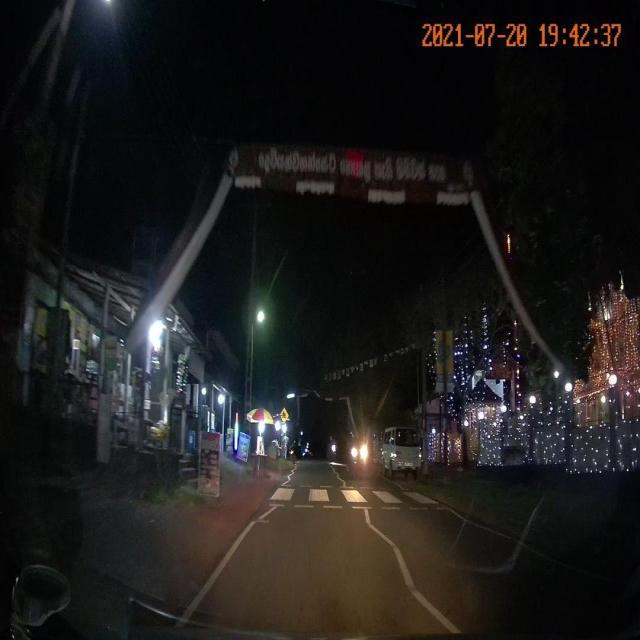Crosswalk: (264, 481, 455, 513)
